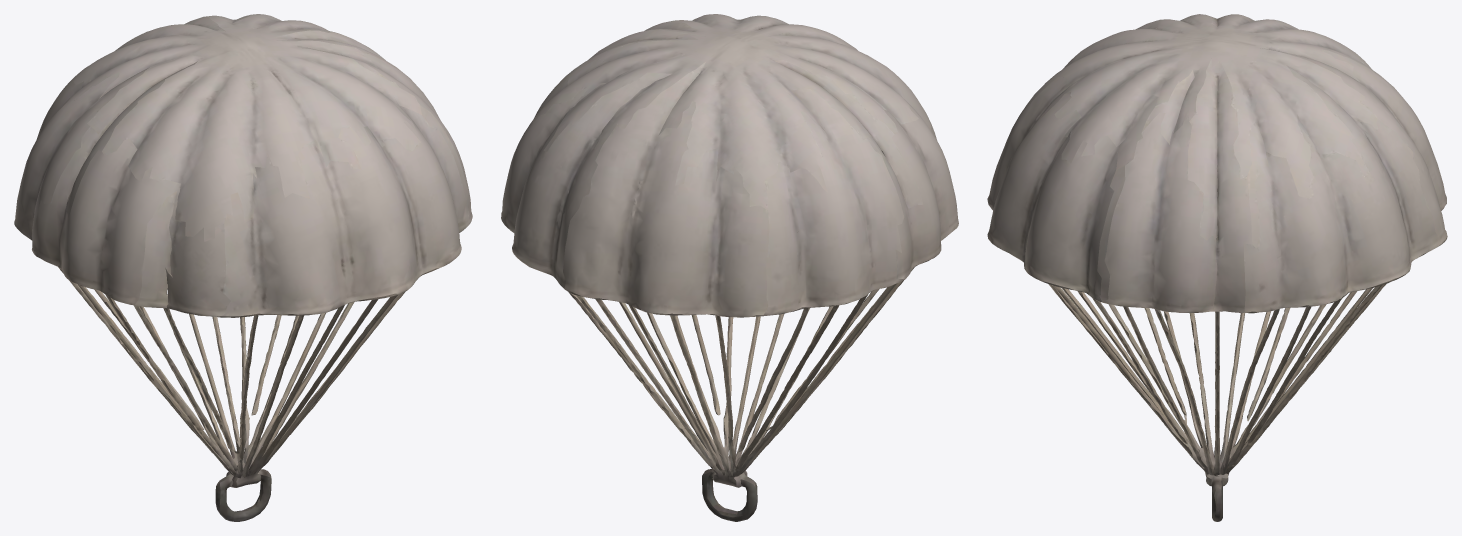
The picture shows the model from 3 angles, left to right: view 1: azimuth 30°, elevation 25°; view 2: azimuth 150°, elevation 25°; view 3: azimuth 270°, elevation 25°; orthographic projection.
Visible parts, largest first — view 1: geometry_0; view 2: geometry_0; view 3: geometry_0.
Boxes of the visible parts, left/top/right/bottom form: geometry_0: left=14, top=14, right=472, bottom=521; geometry_0: left=501, top=14, right=958, bottom=521; geometry_0: left=987, top=14, right=1447, bottom=521.
Bounding box in the file's own units: 0.377 × 0.45 × 0.3937.
1 material, 1 textured.
